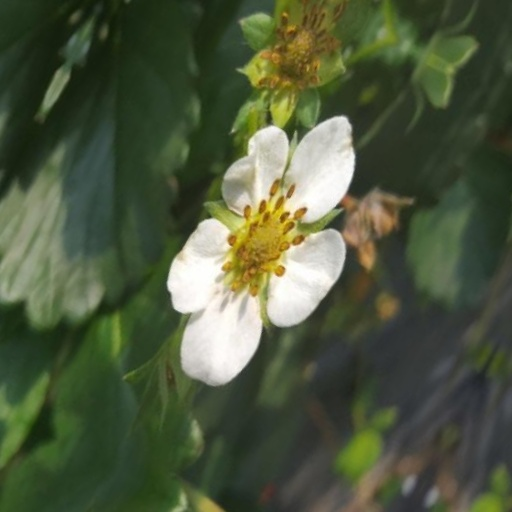Blossom Blight: (217, 171, 299, 303), (160, 0, 235, 115)
